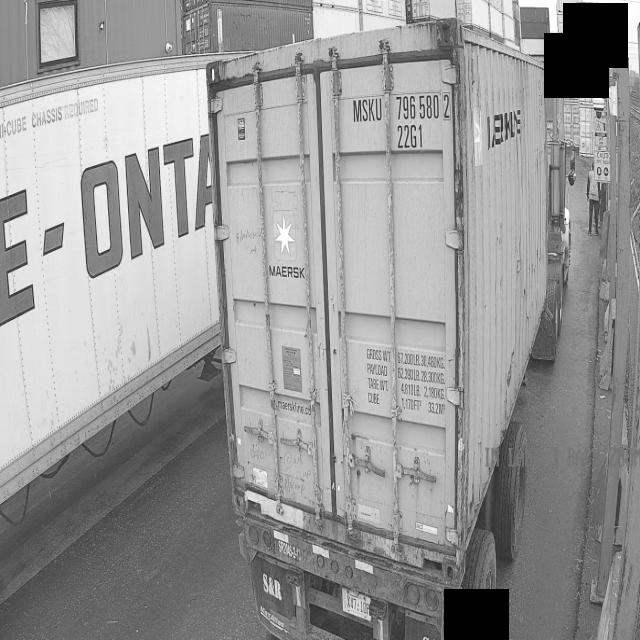container_company_logo: (251, 190, 315, 302)
container_number: (348, 84, 449, 461)
driver: (568, 163, 588, 242)
license_plate: (331, 586, 382, 628)
truck_without_container: (207, 19, 573, 640)
